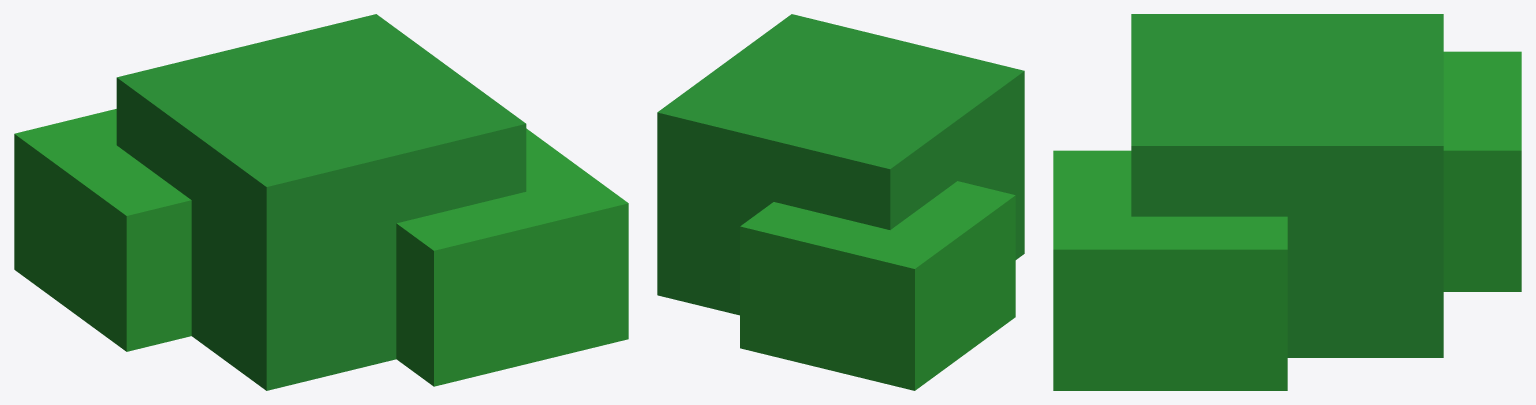
The model's file is Bush-0.obj.
The picture shows the model from 3 angles, left to right: view 1: azimuth 30°, elevation 25°; view 2: azimuth 150°, elevation 25°; view 3: azimuth 270°, elevation 25°; orthographic projection. The views are drawn at different scales.
Parts seen in each view (by area): view 1: Bush-0; view 2: Bush-0; view 3: Bush-0.
Boxes of the visible parts, <box> form: Bush-0: <box>14,14,628,390</box>; Bush-0: <box>657,14,1024,390</box>; Bush-0: <box>1053,14,1521,390</box>.
Size of the model in its own units: 6 by 3 by 6.
1 material, 1 textured.
